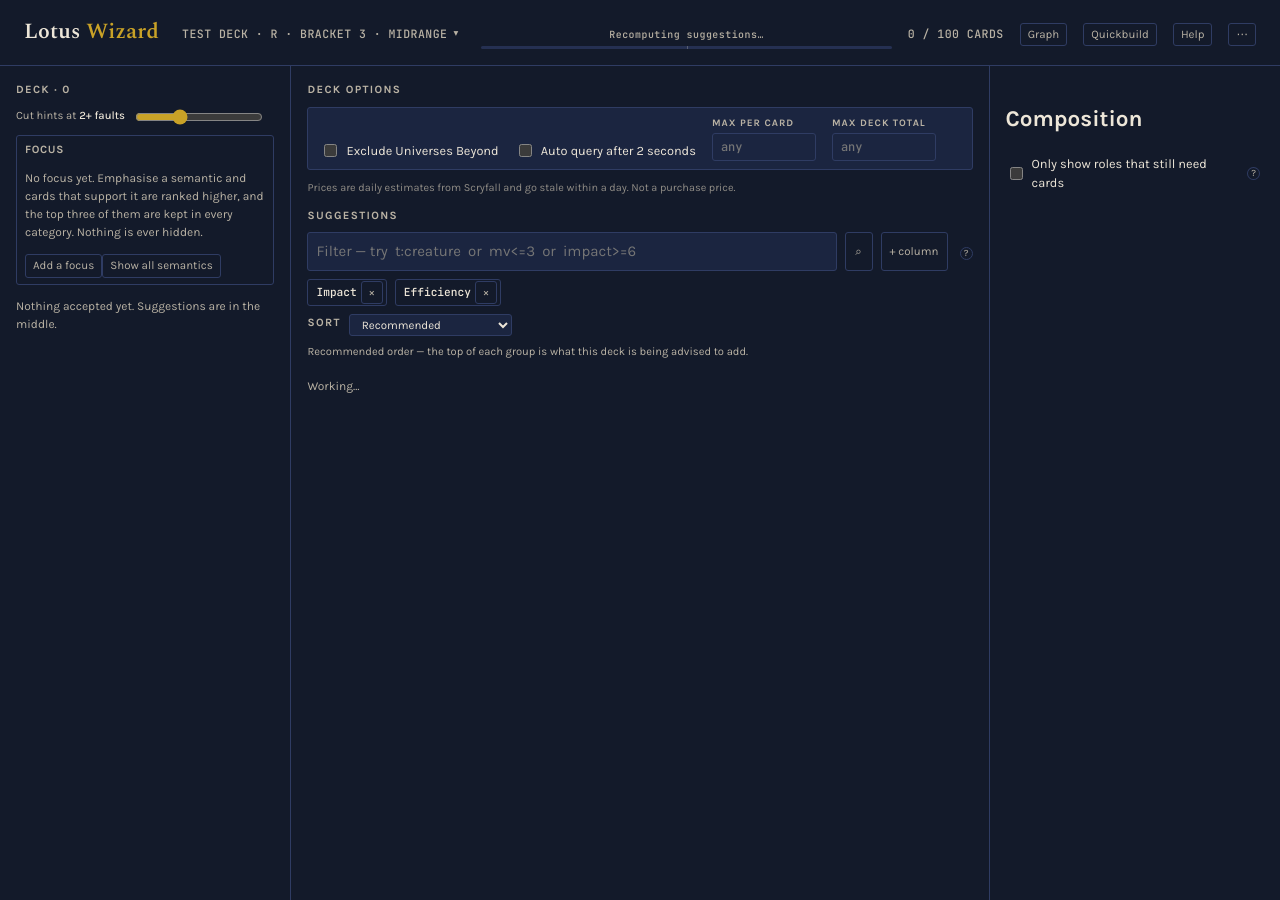
A1: Import and Export moved, and still do what they did › opens the import dialog from inside the menu
Click the button named "More tools". click: (1242,35)
box: [1228,23,1256,46]
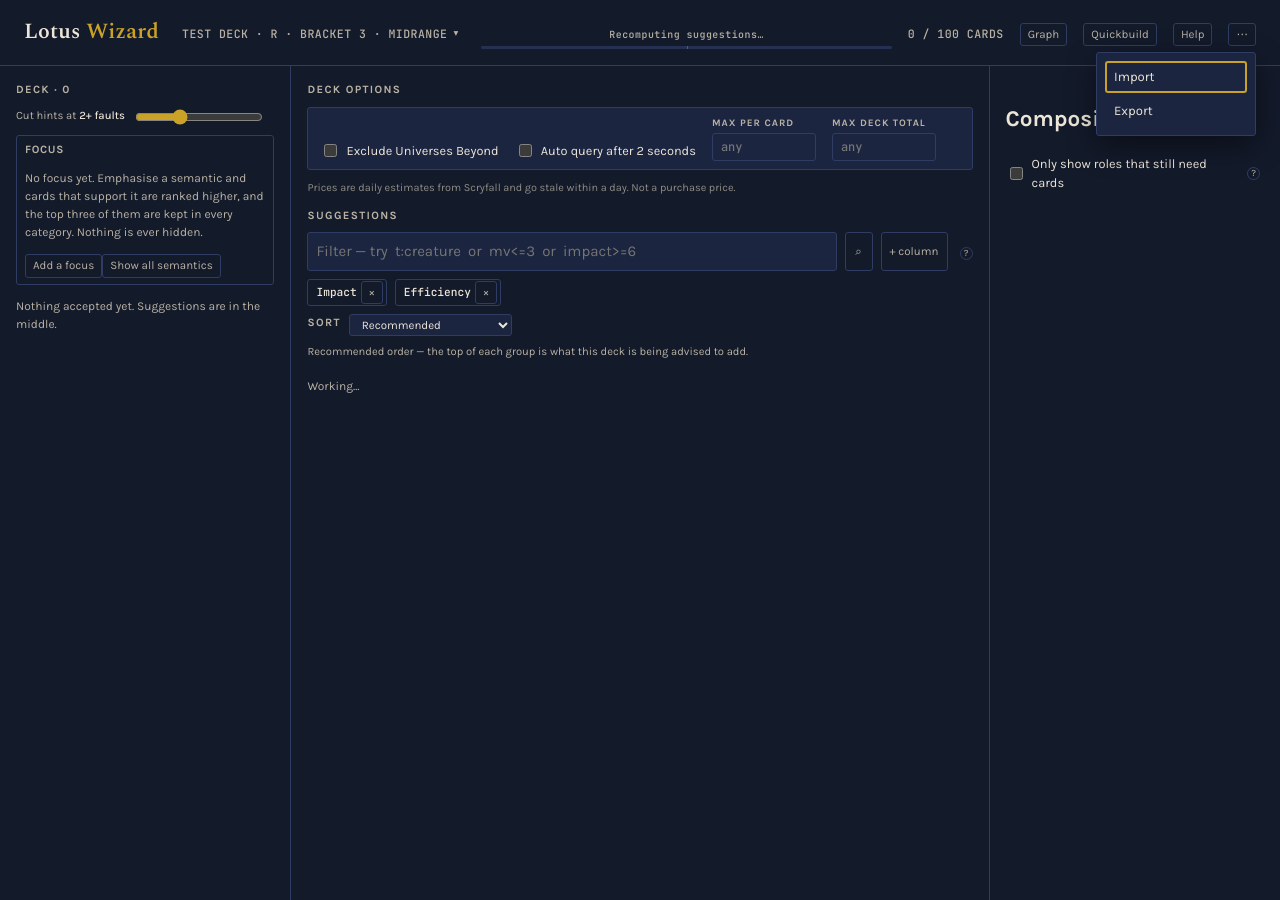
Click the menu item "Import". click: (1176,77)
box: [1105,61,1247,93]
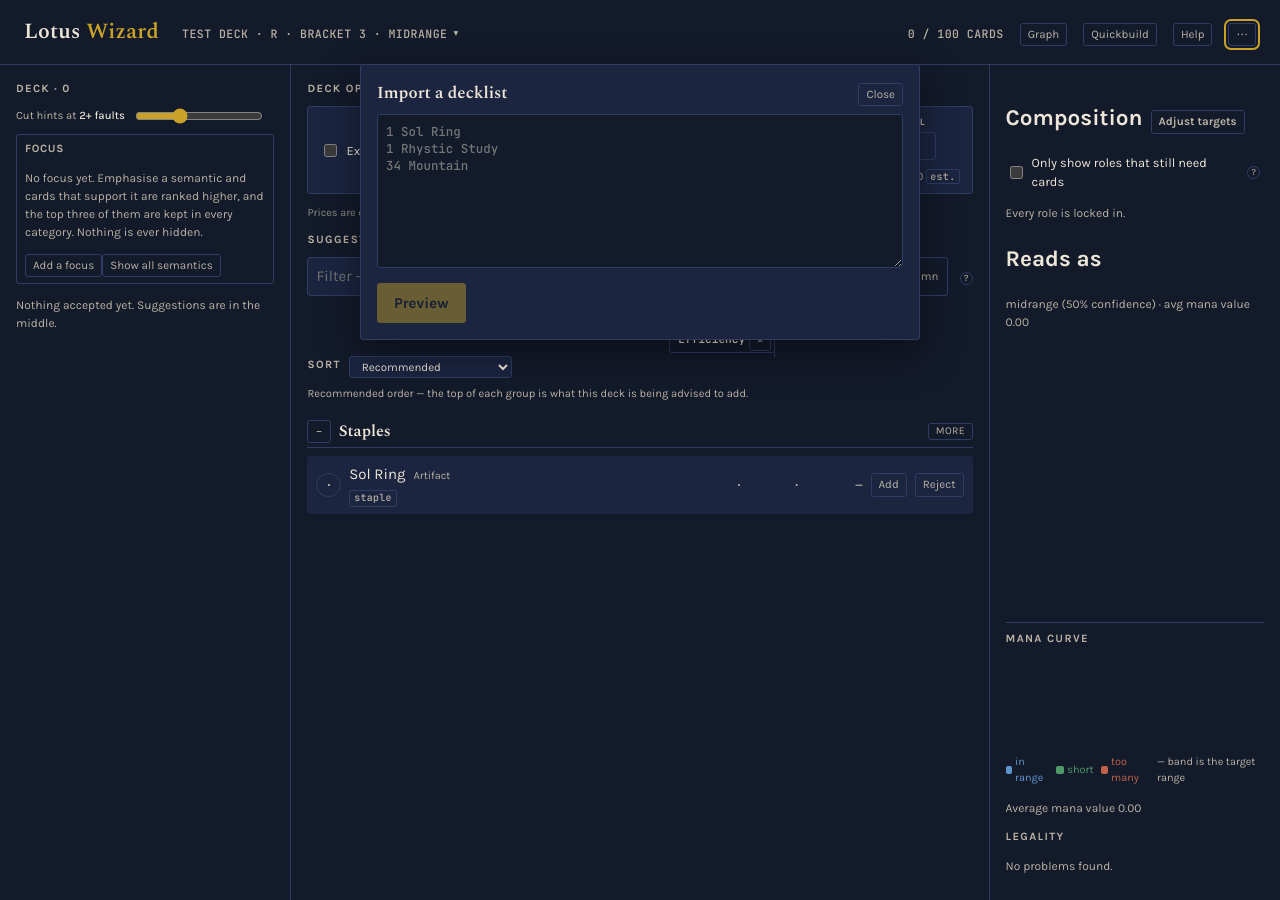
expect the dialog "Import a decklist" is shown: met, box [360,64,920,340]
